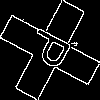P: (25, 25, 81, 76)
